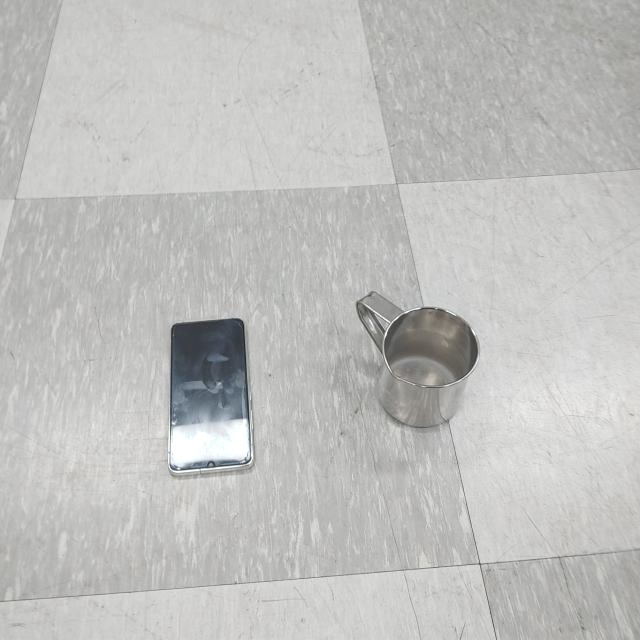cup: (355, 291, 477, 430)
phone: (165, 317, 256, 473)
